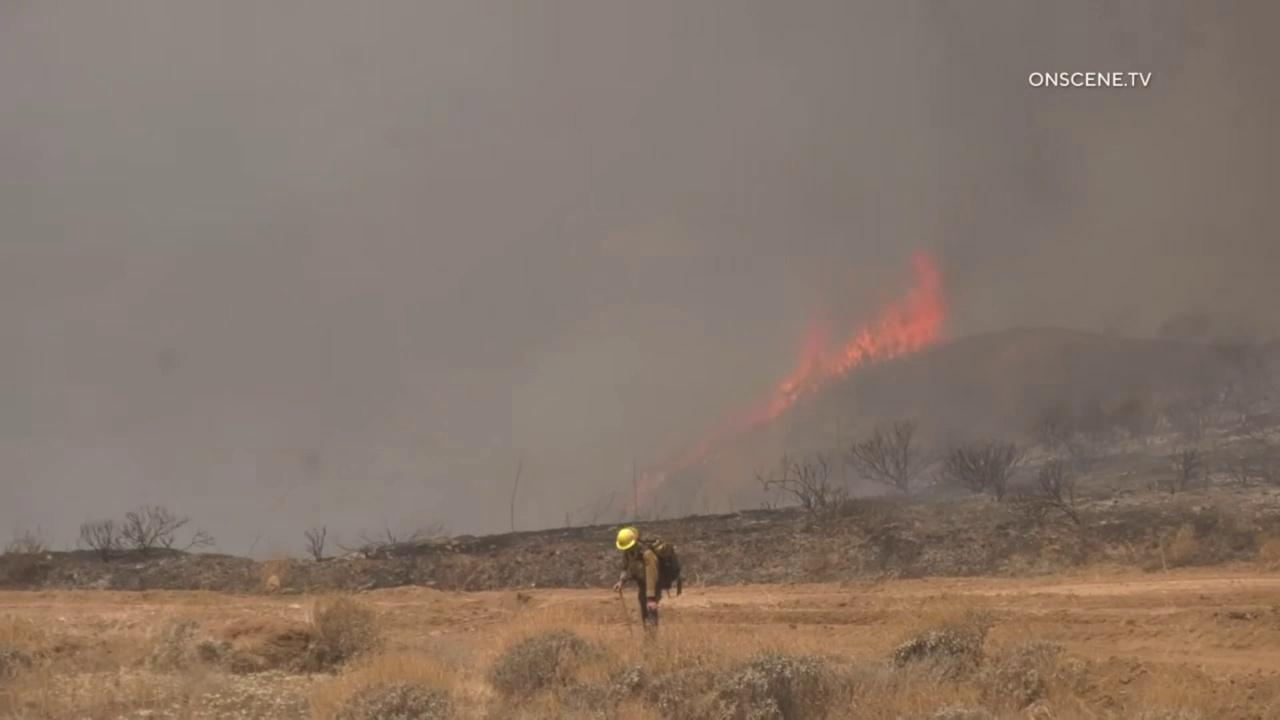fire: (765, 246, 948, 421)
smoke: (0, 0, 1280, 559)
